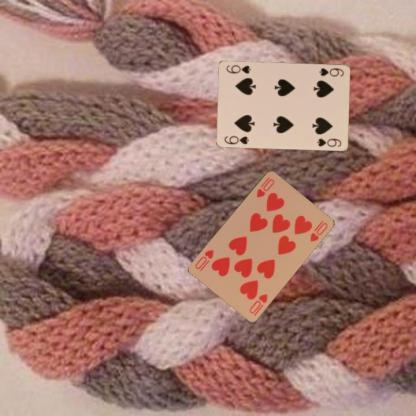10h: (254, 174, 276, 199), (246, 290, 268, 314)
6s: (316, 66, 346, 78), (221, 133, 250, 145)
